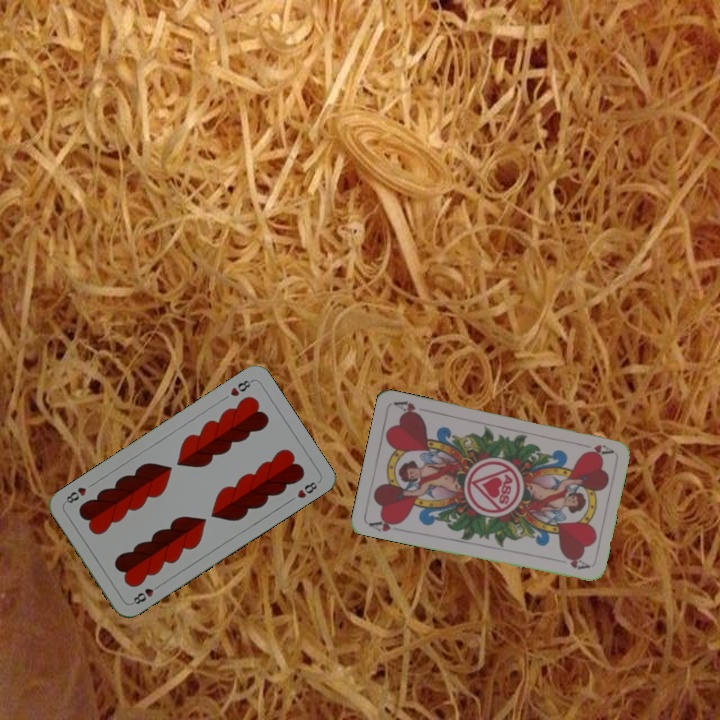H8: (127, 580, 163, 607), (226, 376, 255, 399)
HA: (365, 514, 404, 534), (575, 439, 615, 458)
